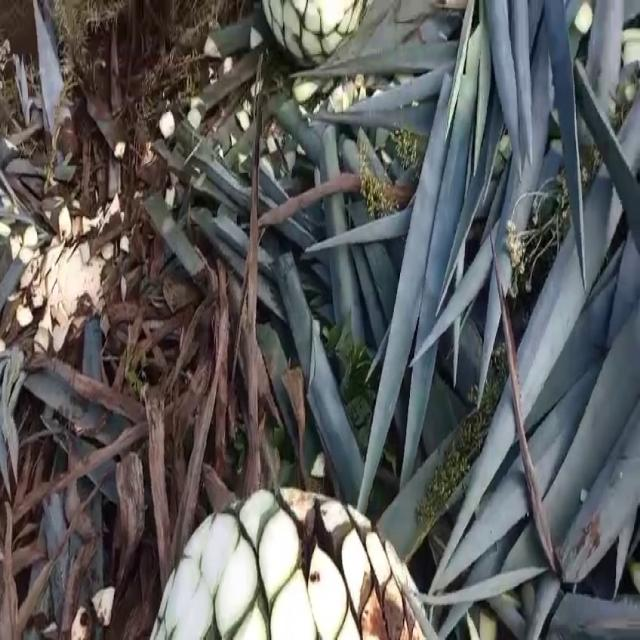agave: (143, 462, 442, 640)
